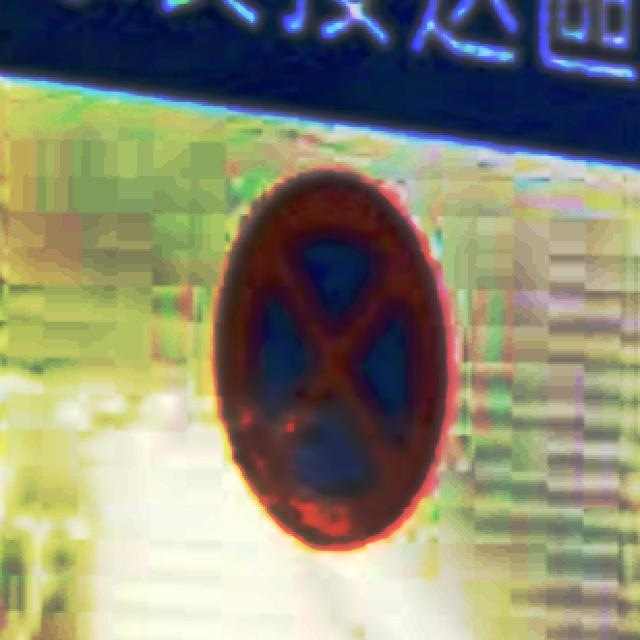nopark: (213, 175, 456, 555)
